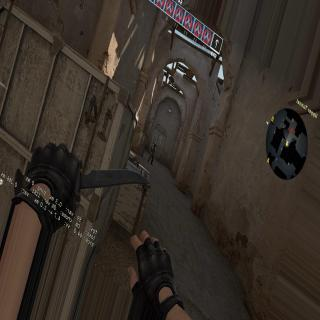CT-Body: (148, 141, 156, 166)
CT-Head: (154, 142, 156, 147)
